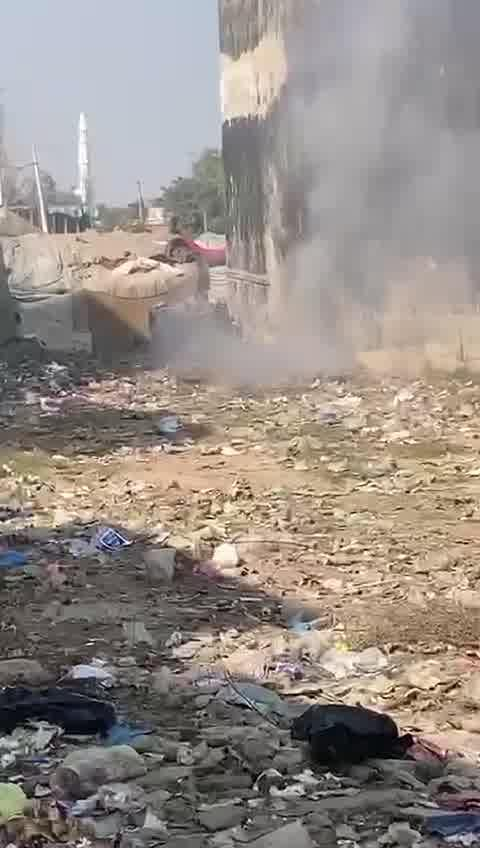garbage: (0, 390, 480, 848)
